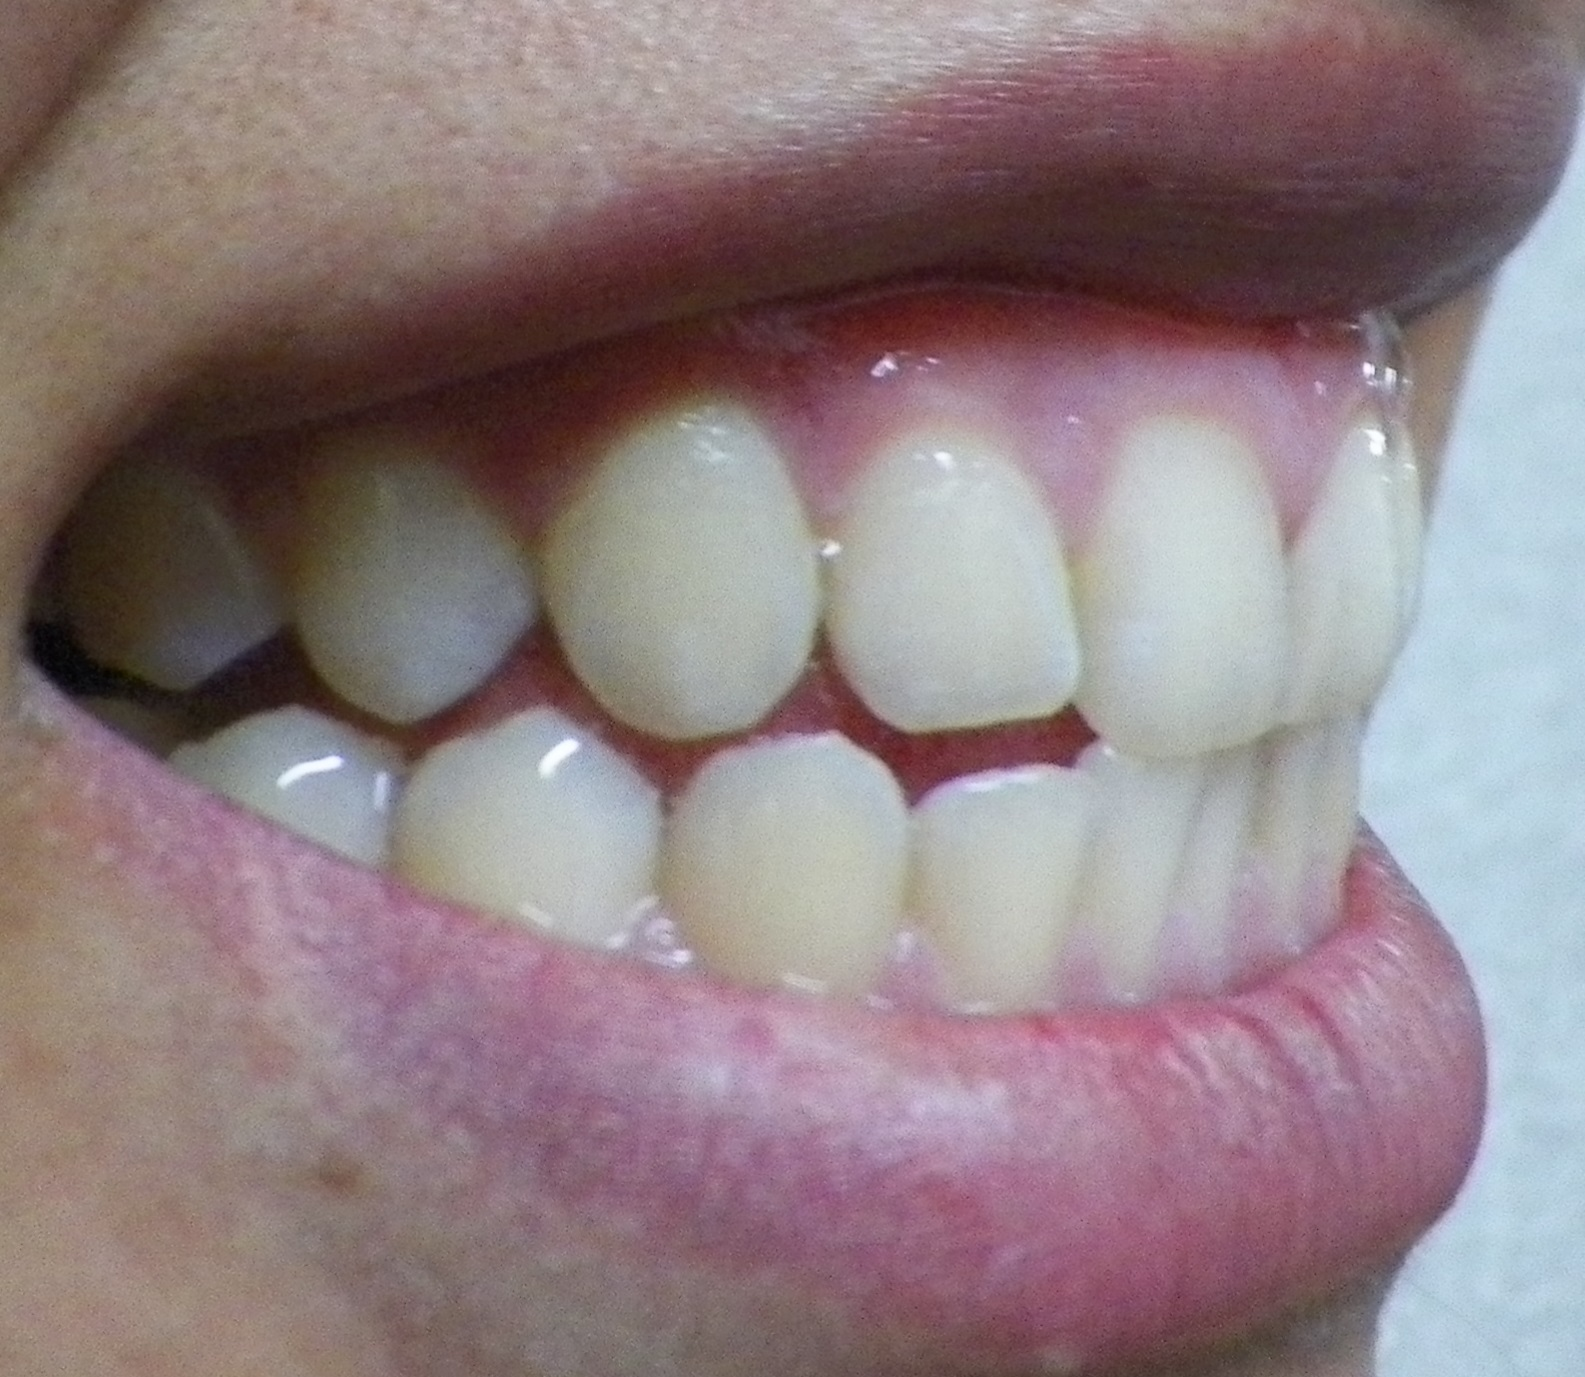boca: (26, 402, 1439, 984)
